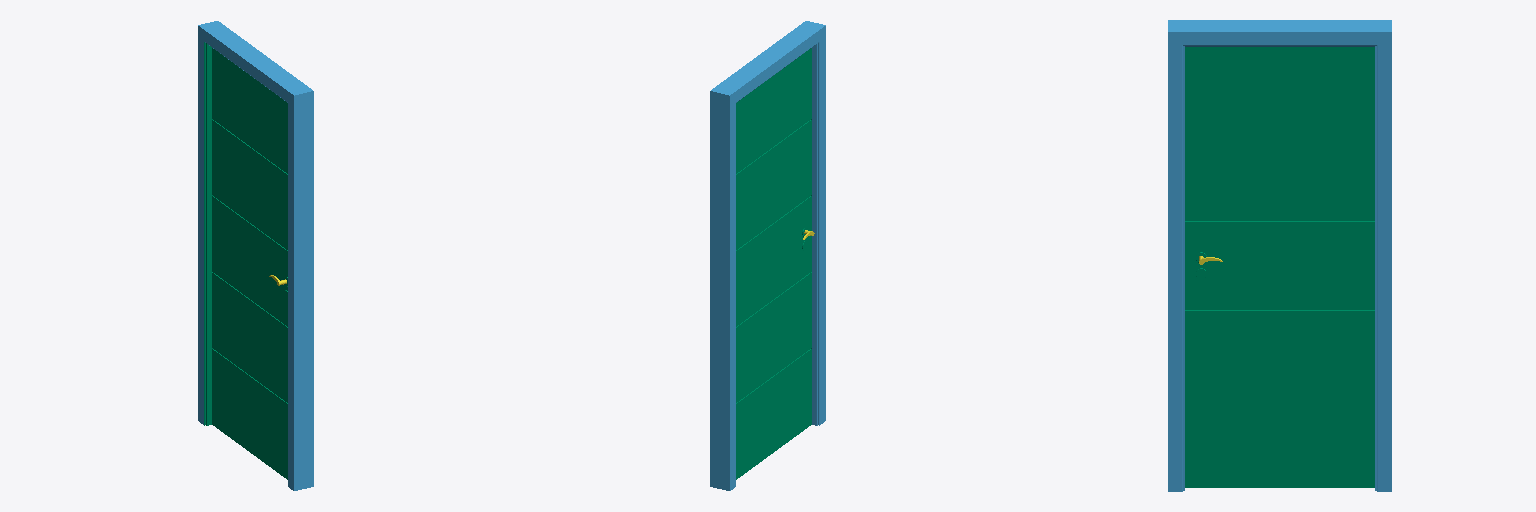
The robot description file, URDF, robot "partnet_2df413de74de82d2fcbd07bde5deede4":
<robot name="partnet_2df413de74de82d2fcbd07bde5deede4">
	<link name="base"><inertial><mass value="10" /><inertia ixx="1" ixy="0" ixz="0" iyy="1" iyz="0" izz="1" /></inertial></link>
	<link name="link_0">
		<visual name="outside_frame-1">
			<origin xyz="0 0 0" />
			<geometry>
				<mesh filename="textured_objs/new-2.obj" />
			</geometry>
		</visual>
		<visual name="outside_frame-1">
			<origin xyz="0 0 0" />
			<geometry>
				<mesh filename="textured_objs/original-1.obj" />
			</geometry>
		</visual>
		<visual name="outside_frame-1">
			<origin xyz="0 0 0" />
			<geometry>
				<mesh filename="textured_objs/new-5.obj" />
			</geometry>
		</visual>
		<collision>
			<origin xyz="0 0 0" />
			<geometry>
				<mesh filename="textured_objs/new-2.obj" />
			</geometry>
		</collision>
		<collision>
			<origin xyz="0 0 0" />
			<geometry>
				<mesh filename="textured_objs/original-1.obj" />
			</geometry>
		</collision>
		<collision>
			<origin xyz="0 0 0" />
			<geometry>
				<mesh filename="textured_objs/new-5.obj" />
			</geometry>
		</collision>
	<inertial><mass value="10" /><inertia ixx="1" ixy="0" ixz="0" iyy="1" iyz="0" izz="1" /></inertial></link>
	<joint name="joint_0" type="fixed">
		<origin rpy="1.570796326794897 0 -1.570796326794897" xyz="0 0 0" />
		<child link="link_0" />
		<parent link="base" />
	</joint>
	<link name="link_1">
		<visual name="surface_board-12">
			<origin xyz="0.3432525537649009 -0.828824 0.004683688059689217" />
			<geometry>
				<mesh filename="textured_objs/new-3.obj" />
			</geometry>
		</visual>
		<visual name="surface_board-12">
			<origin xyz="0.3432525537649009 -0.828824 0.004683688059689217" />
			<geometry>
				<mesh filename="textured_objs/new-4.obj" />
			</geometry>
		</visual>
		<visual name="surface_board-12">
			<origin xyz="0.3432525537649009 -0.828824 0.004683688059689217" />
			<geometry>
				<mesh filename="textured_objs/new-0.obj" />
			</geometry>
		</visual>
		<visual name="surface_board-12">
			<origin xyz="0.3432525537649009 -0.828824 0.004683688059689217" />
			<geometry>
				<mesh filename="textured_objs/new-1.obj" />
			</geometry>
		</visual>
		<visual name="fixed_part-10">
			<origin xyz="0.3432525537649009 -0.828824 0.004683688059689217" />
			<geometry>
				<mesh filename="textured_objs/original-17.obj" />
			</geometry>
		</visual>
		<visual name="fixed_part-10">
			<origin xyz="0.3432525537649009 -0.828824 0.004683688059689217" />
			<geometry>
				<mesh filename="textured_objs/original-16.obj" />
			</geometry>
		</visual>
		<visual name="fixed_part-10">
			<origin xyz="0.3432525537649009 -0.828824 0.004683688059689217" />
			<geometry>
				<mesh filename="textured_objs/original-21.obj" />
			</geometry>
		</visual>
		<visual name="other_leaf-14">
			<origin xyz="0.3432525537649009 -0.828824 0.004683688059689217" />
			<geometry>
				<mesh filename="textured_objs/original-20.obj" />
			</geometry>
		</visual>
		<visual name="other_leaf-14">
			<origin xyz="0.3432525537649009 -0.828824 0.004683688059689217" />
			<geometry>
				<mesh filename="textured_objs/original-22.obj" />
			</geometry>
		</visual>
		<visual name="fixed_part-8">
			<origin xyz="0.3432525537649009 -0.828824 0.004683688059689217" />
			<geometry>
				<mesh filename="textured_objs/original-6.obj" />
			</geometry>
		</visual>
		<visual name="fixed_part-8">
			<origin xyz="0.3432525537649009 -0.828824 0.004683688059689217" />
			<geometry>
				<mesh filename="textured_objs/original-5.obj" />
			</geometry>
		</visual>
		<visual name="fixed_part-8">
			<origin xyz="0.3432525537649009 -0.828824 0.004683688059689217" />
			<geometry>
				<mesh filename="textured_objs/original-10.obj" />
			</geometry>
		</visual>
		<visual name="other_leaf-16">
			<origin xyz="0.3432525537649009 -0.828824 0.004683688059689217" />
			<geometry>
				<mesh filename="textured_objs/original-11.obj" />
			</geometry>
		</visual>
		<visual name="other_leaf-16">
			<origin xyz="0.3432525537649009 -0.828824 0.004683688059689217" />
			<geometry>
				<mesh filename="textured_objs/original-9.obj" />
			</geometry>
		</visual>
		<collision>
			<origin xyz="0.3432525537649009 -0.828824 0.004683688059689217" />
			<geometry>
				<mesh filename="textured_objs/new-3.obj" />
			</geometry>
		</collision>
		<collision>
			<origin xyz="0.3432525537649009 -0.828824 0.004683688059689217" />
			<geometry>
				<mesh filename="textured_objs/new-4.obj" />
			</geometry>
		</collision>
		<collision>
			<origin xyz="0.3432525537649009 -0.828824 0.004683688059689217" />
			<geometry>
				<mesh filename="textured_objs/new-0.obj" />
			</geometry>
		</collision>
		<collision>
			<origin xyz="0.3432525537649009 -0.828824 0.004683688059689217" />
			<geometry>
				<mesh filename="textured_objs/new-1.obj" />
			</geometry>
		</collision>
		<collision>
			<origin xyz="0.3432525537649009 -0.828824 0.004683688059689217" />
			<geometry>
				<mesh filename="textured_objs/original-17.obj" />
			</geometry>
		</collision>
		<collision>
			<origin xyz="0.3432525537649009 -0.828824 0.004683688059689217" />
			<geometry>
				<mesh filename="textured_objs/original-16.obj" />
			</geometry>
		</collision>
		<collision>
			<origin xyz="0.3432525537649009 -0.828824 0.004683688059689217" />
			<geometry>
				<mesh filename="textured_objs/original-21.obj" />
			</geometry>
		</collision>
		<collision>
			<origin xyz="0.3432525537649009 -0.828824 0.004683688059689217" />
			<geometry>
				<mesh filename="textured_objs/original-20.obj" />
			</geometry>
		</collision>
		<collision>
			<origin xyz="0.3432525537649009 -0.828824 0.004683688059689217" />
			<geometry>
				<mesh filename="textured_objs/original-22.obj" />
			</geometry>
		</collision>
		<collision>
			<origin xyz="0.3432525537649009 -0.828824 0.004683688059689217" />
			<geometry>
				<mesh filename="textured_objs/original-6.obj" />
			</geometry>
		</collision>
		<collision>
			<origin xyz="0.3432525537649009 -0.828824 0.004683688059689217" />
			<geometry>
				<mesh filename="textured_objs/original-5.obj" />
			</geometry>
		</collision>
		<collision>
			<origin xyz="0.3432525537649009 -0.828824 0.004683688059689217" />
			<geometry>
				<mesh filename="textured_objs/original-10.obj" />
			</geometry>
		</collision>
		<collision>
			<origin xyz="0.3432525537649009 -0.828824 0.004683688059689217" />
			<geometry>
				<mesh filename="textured_objs/original-11.obj" />
			</geometry>
		</collision>
		<collision>
			<origin xyz="0.3432525537649009 -0.828824 0.004683688059689217" />
			<geometry>
				<mesh filename="textured_objs/original-9.obj" />
			</geometry>
		</collision>
	<inertial><mass value="10" /><inertia ixx="1" ixy="0" ixz="0" iyy="1" iyz="0" izz="1" /></inertial></link>
	<joint name="joint_1" type="revolute">
		<origin xyz="-0.3432525537649009 0.828824 -0.004683688059689217" />
		<axis xyz="0 -1 0" />
		<child link="link_1" />
		<parent link="link_0" />
		<limit effort="30" lower="0.0" upper="1.5707963267948966" velocity="1.0" />
	</joint>
	<link name="link_2">
		<visual name="movable_part-11">
			<origin xyz="-0.27102619774442194 0.04494619130548938 -0.053442000000000434" />
			<geometry>
				<mesh filename="textured_objs/original-19.obj" />
			</geometry>
		</visual>
		<visual name="movable_part-11">
			<origin xyz="-0.27102619774442194 0.04494619130548938 -0.053442000000000434" />
			<geometry>
				<mesh filename="textured_objs/original-18.obj" />
			</geometry>
		</visual>
		<visual name="movable_part-9">
			<origin xyz="-0.27102619774442194 0.04494619130548938 -0.053442000000000434" />
			<geometry>
				<mesh filename="textured_objs/original-7.obj" />
			</geometry>
		</visual>
		<visual name="movable_part-9">
			<origin xyz="-0.27102619774442194 0.04494619130548938 -0.053442000000000434" />
			<geometry>
				<mesh filename="textured_objs/original-8.obj" />
			</geometry>
		</visual>
		<collision>
			<origin xyz="-0.27102619774442194 0.04494619130548938 -0.053442000000000434" />
			<geometry>
				<mesh filename="textured_objs/original-19.obj" />
			</geometry>
		</collision>
		<collision>
			<origin xyz="-0.27102619774442194 0.04494619130548938 -0.053442000000000434" />
			<geometry>
				<mesh filename="textured_objs/original-18.obj" />
			</geometry>
		</collision>
		<collision>
			<origin xyz="-0.27102619774442194 0.04494619130548938 -0.053442000000000434" />
			<geometry>
				<mesh filename="textured_objs/original-7.obj" />
			</geometry>
		</collision>
		<collision>
			<origin xyz="-0.27102619774442194 0.04494619130548938 -0.053442000000000434" />
			<geometry>
				<mesh filename="textured_objs/original-8.obj" />
			</geometry>
		</collision>
	<inertial><mass value="10" /><inertia ixx="1" ixy="0" ixz="0" iyy="1" iyz="0" izz="1" /></inertial></link>
	<joint name="joint_2" type="revolute">
		<origin xyz="0.6142787515093229 -0.8737701913054894 0.05812568805968965" />
		<axis xyz="0 0 1" />
		<child link="link_2" />
		<parent link="link_1" />
		<limit effort="30" lower="0.0" upper="1.5707963267948966" velocity="1.0" />
	</joint>
</robot>

--- Facts derived from the render (not from the file) ---
Views: 3 orthographic renders of the robot side by side, from view 1: azimuth 30°, elevation 25°; view 2: azimuth 150°, elevation 25°; view 3: azimuth 270°, elevation 25°.
Model partnet_2df413de74de82d2fcbd07bde5deede4 with 4 links and 3 joints (2 revolute, 1 fixed), rooted at base, posed every joint at zero.
Links seen in each view (by area): view 1: link_1, link_0; view 2: link_1, link_0; view 3: link_1, link_0.
Link boxes in pixels (left/top/right/bottom): link_1: left=204, top=42, right=287, bottom=479; link_0: left=198, top=21, right=313, bottom=490; link_1: left=736, top=48, right=811, bottom=479; link_0: left=710, top=21, right=825, bottom=490; link_1: left=1185, top=47, right=1374, bottom=487; link_0: left=1168, top=20, right=1391, bottom=491.
Size in the robot's own frame: 0.1077 by 0.7733 by 1.76 metres.
21 mesh visuals loaded from 21 distinct referenced files (21 OBJ).